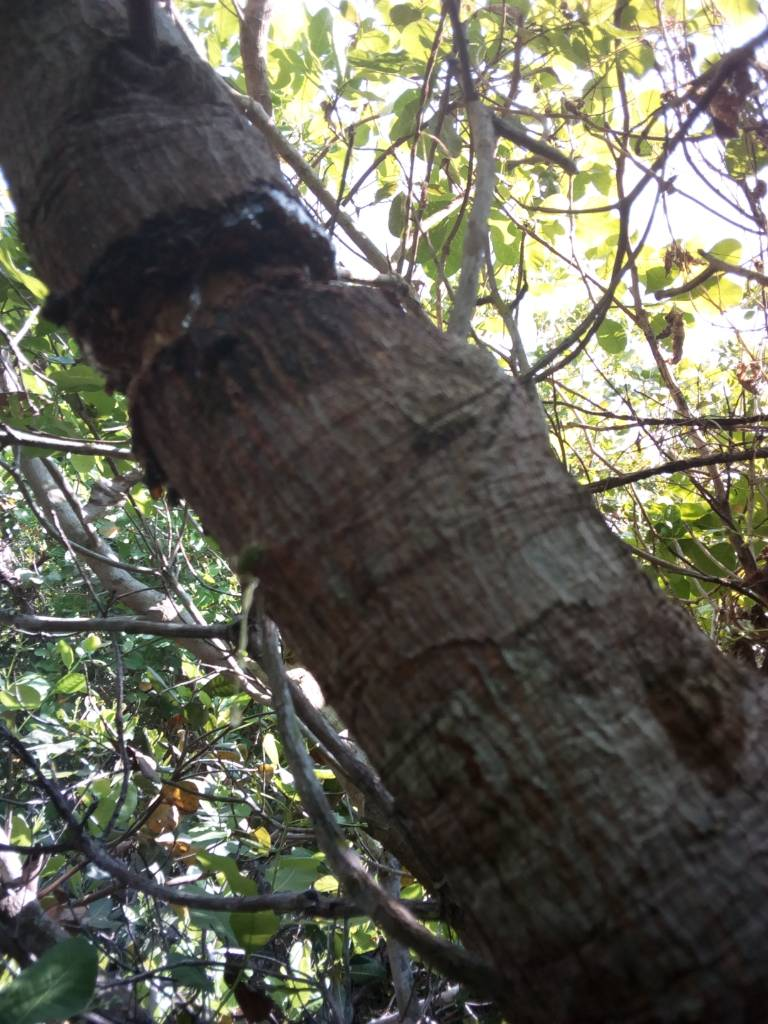Analepse trifasciata: (38, 182, 411, 407)
